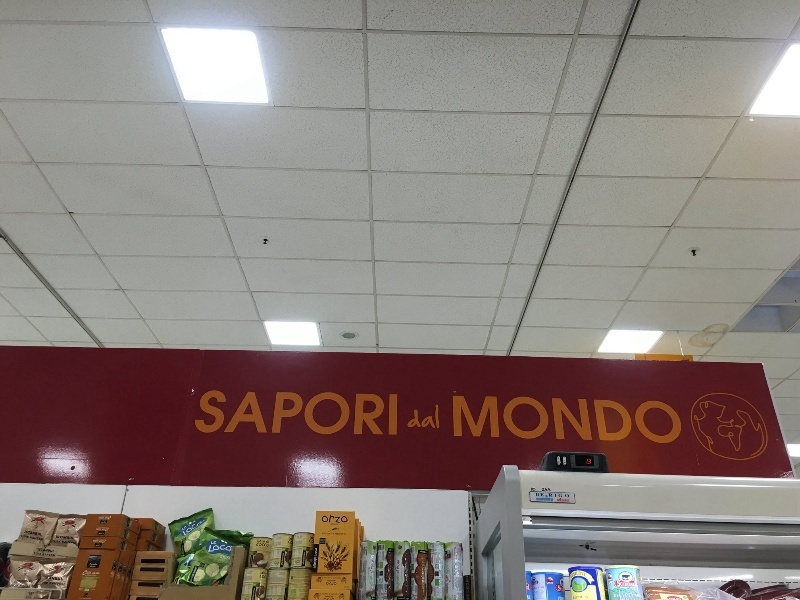text: (369, 545, 384, 600), (385, 545, 400, 600), (401, 545, 416, 600), (417, 545, 432, 600), (433, 545, 448, 600), (449, 545, 464, 600), (385, 390, 401, 438), (465, 395, 480, 445), (481, 395, 496, 445), (497, 395, 512, 445), (513, 395, 528, 445), (529, 395, 544, 445), (545, 395, 560, 445), (561, 395, 576, 445), (577, 395, 592, 445), (593, 395, 608, 445), (609, 395, 624, 445), (625, 395, 640, 445), (641, 395, 656, 445), (657, 395, 672, 445), (209, 390, 224, 438), (225, 390, 240, 438), (241, 390, 256, 438), (257, 390, 272, 438), (273, 390, 288, 438), (289, 390, 304, 438), (305, 390, 320, 438), (321, 390, 336, 438), (337, 390, 352, 438), (353, 390, 368, 438), (369, 390, 384, 438), (452, 395, 464, 445), (673, 395, 683, 445), (85, 555, 96, 600), (257, 535, 272, 568), (273, 535, 288, 568), (289, 535, 304, 568), (98, 515, 112, 549), (257, 570, 272, 600), (273, 570, 288, 600), (289, 570, 304, 600), (146, 522, 160, 551), (417, 404, 432, 431), (361, 545, 368, 600), (114, 560, 128, 586), (465, 576, 480, 600), (245, 570, 256, 600), (97, 555, 104, 600), (119, 518, 128, 552), (193, 561, 206, 584), (203, 390, 208, 438), (433, 404, 441, 431), (305, 570, 312, 600), (182, 520, 192, 537), (33, 535, 48, 546), (49, 535, 64, 546), (209, 555, 224, 566), (251, 535, 256, 568), (193, 520, 202, 537), (33, 590, 48, 600), (129, 518, 133, 552), (411, 404, 416, 431), (321, 577, 336, 586), (322, 516, 336, 525), (21, 535, 32, 546), (65, 535, 76, 546), (37, 547, 48, 558), (17, 580, 32, 588), (209, 545, 224, 553), (315, 548, 320, 570), (260, 571, 272, 580), (445, 560, 448, 595), (129, 560, 133, 586), (337, 516, 348, 525), (49, 547, 56, 558), (625, 594, 640, 599), (577, 594, 589, 600), (189, 561, 192, 584), (549, 493, 560, 499), (533, 585, 544, 591), (531, 487, 544, 492), (577, 572, 586, 579), (33, 531, 43, 537), (49, 590, 55, 600), (545, 498, 560, 502), (257, 543, 272, 547), (289, 537, 304, 541), (625, 581, 635, 587), (225, 545, 232, 553), (258, 540, 272, 544), (181, 526, 192, 531), (211, 541, 224, 545), (27, 590, 32, 600), (614, 594, 624, 599), (561, 493, 569, 499), (65, 536, 74, 541), (337, 577, 342, 586), (321, 593, 336, 596), (204, 555, 208, 566), (225, 555, 229, 566), (225, 555, 231, 562), (322, 533, 336, 536), (570, 572, 576, 579), (617, 581, 624, 587), (310, 536, 320, 540), (547, 582, 560, 585), (26, 531, 32, 537), (535, 493, 544, 497), (561, 498, 570, 502), (57, 536, 64, 541), (587, 458, 592, 465), (305, 535, 306, 568), (12, 580, 16, 588), (33, 580, 37, 588), (545, 488, 551, 493), (337, 533, 347, 536), (220, 555, 224, 562), (537, 498, 544, 502), (673, 597, 681, 600), (314, 593, 320, 596), (573, 594, 576, 600), (289, 541, 293, 545), (561, 586, 564, 591), (668, 597, 672, 600), (542, 488, 544, 493), (558, 586, 560, 591), (337, 593, 339, 596), (641, 594, 642, 599)
